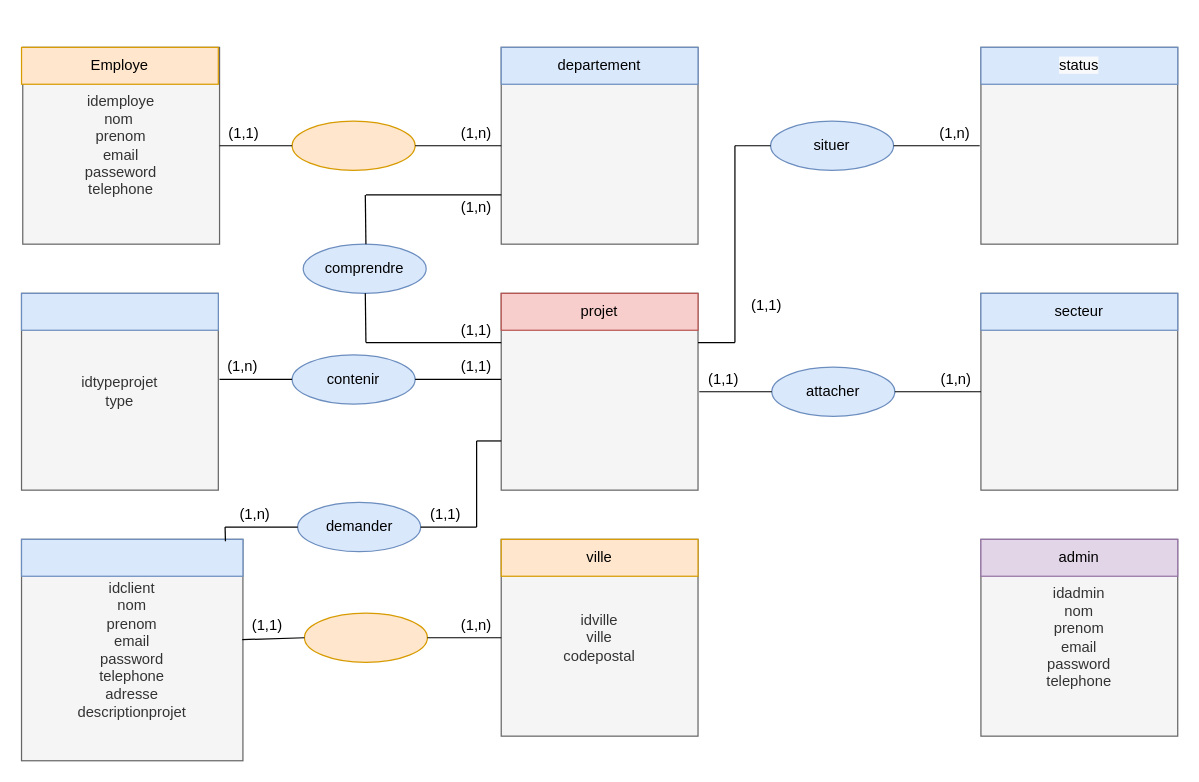
Image size: 1199x782. Some labels were removed from this diagram. The box of each missing label's shape, as (x1, y1, x2, y2) in pixels:
client: (20, 538, 243, 576)
habiter: (303, 612, 427, 662)
iddepartement specialite: (500, 46, 698, 244)
idprojet description: (500, 292, 698, 490)
idsecteur secteur: (980, 292, 1178, 490)
idstatus status: (980, 46, 1178, 244)
travailler: (291, 120, 415, 170)
typeprojet: (20, 292, 218, 330)
